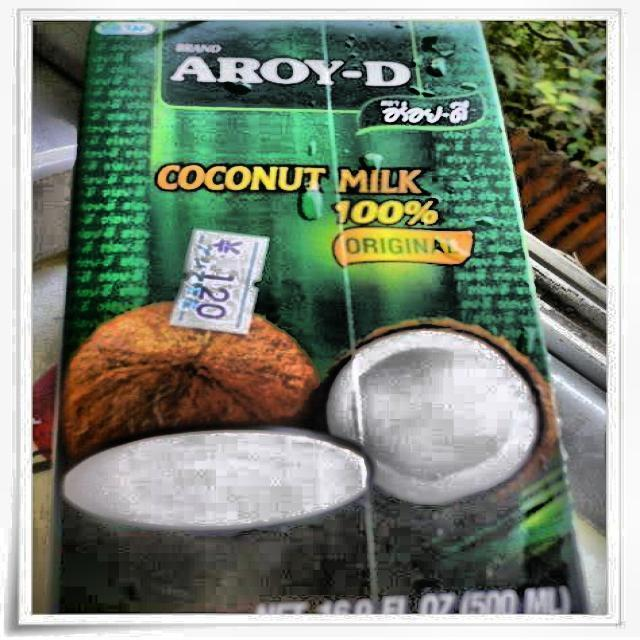cardboard: (43, 20, 590, 615)
